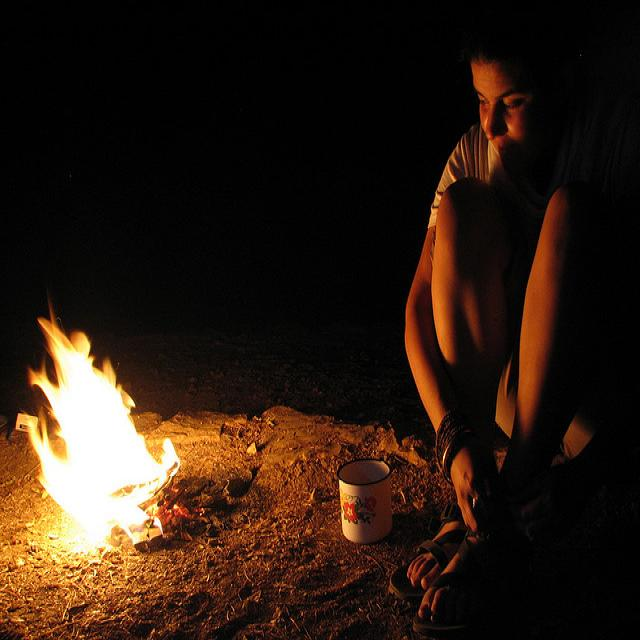Cup: (317, 455, 399, 576)
People: (418, 15, 629, 640)
